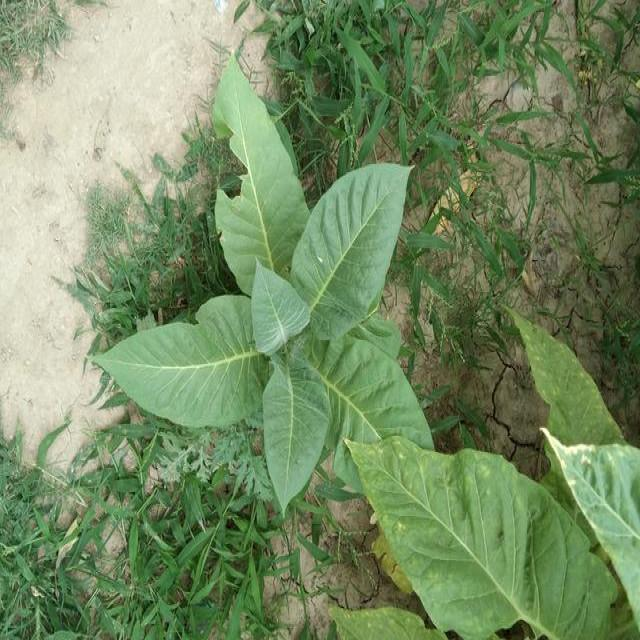crop: (96, 52, 461, 512)
